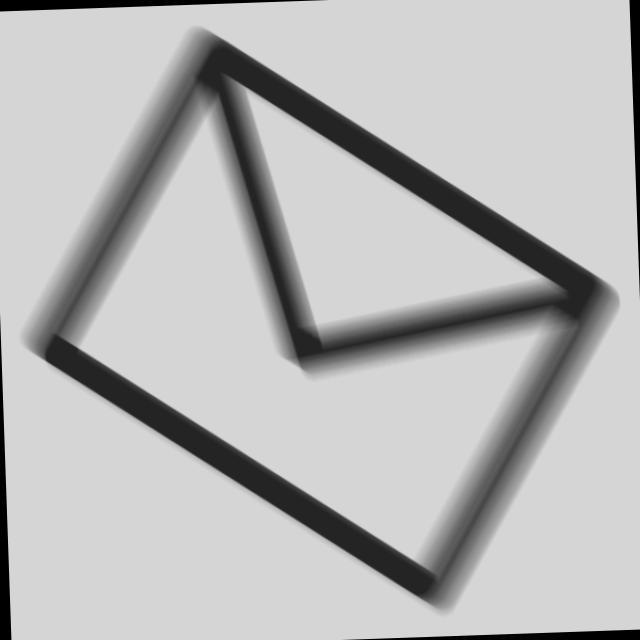letter: (4, 1, 640, 631)
